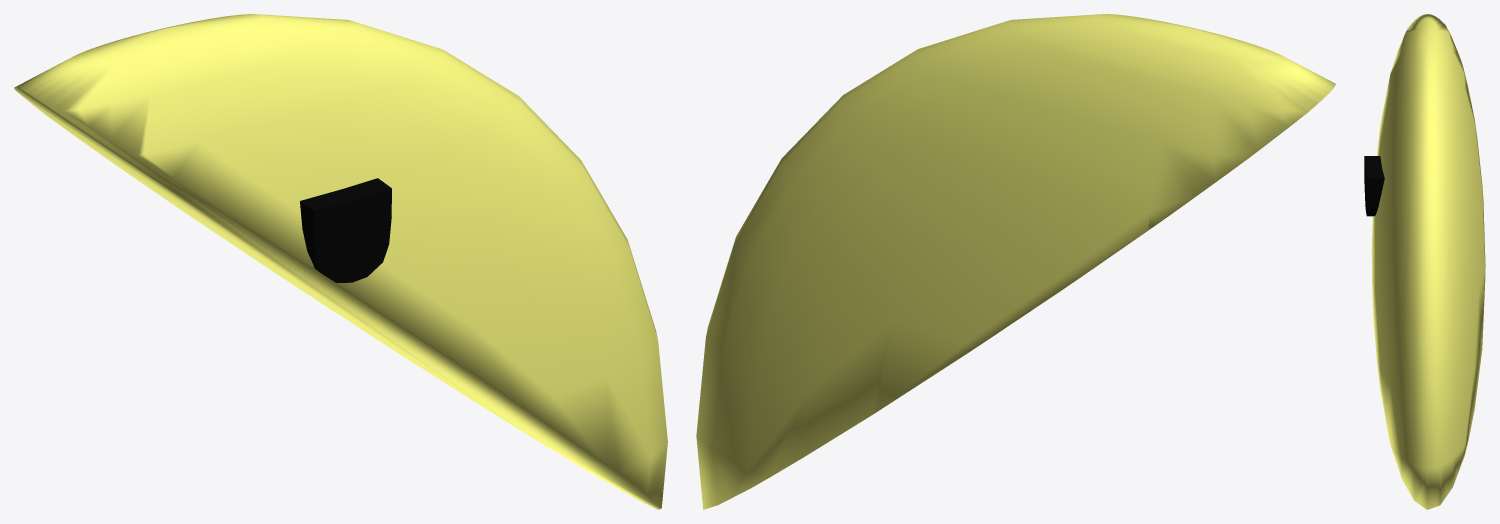
The model's file is Pedazo1.fbx.
3 renders of one model, left to right at view 1: azimuth 30°, elevation 25°; view 2: azimuth 150°, elevation 25°; view 3: azimuth 270°, elevation 25°, orthographic. The views are drawn at different scales.
Visible parts, largest first — view 1: ParteCortada, Right Eye; view 2: ParteCortada; view 3: ParteCortada, Right Eye.
Part boxes in pixels (x1,y1,x2,y2): ParteCortada: [14, 14, 667, 509]; Right Eye: [300, 178, 391, 282]; ParteCortada: [696, 14, 1335, 509]; ParteCortada: [1371, 14, 1485, 509]; Right Eye: [1364, 156, 1384, 216].
Bounding box in the file's own units: 227 × 202 × 66.06.
